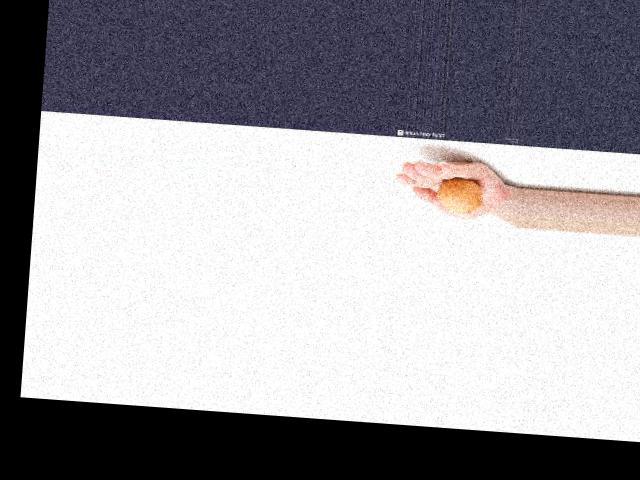egg: (437, 176, 484, 215)
